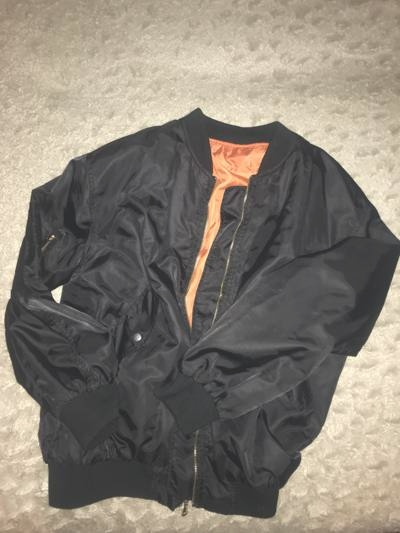Blazer: (8, 107, 394, 519)
